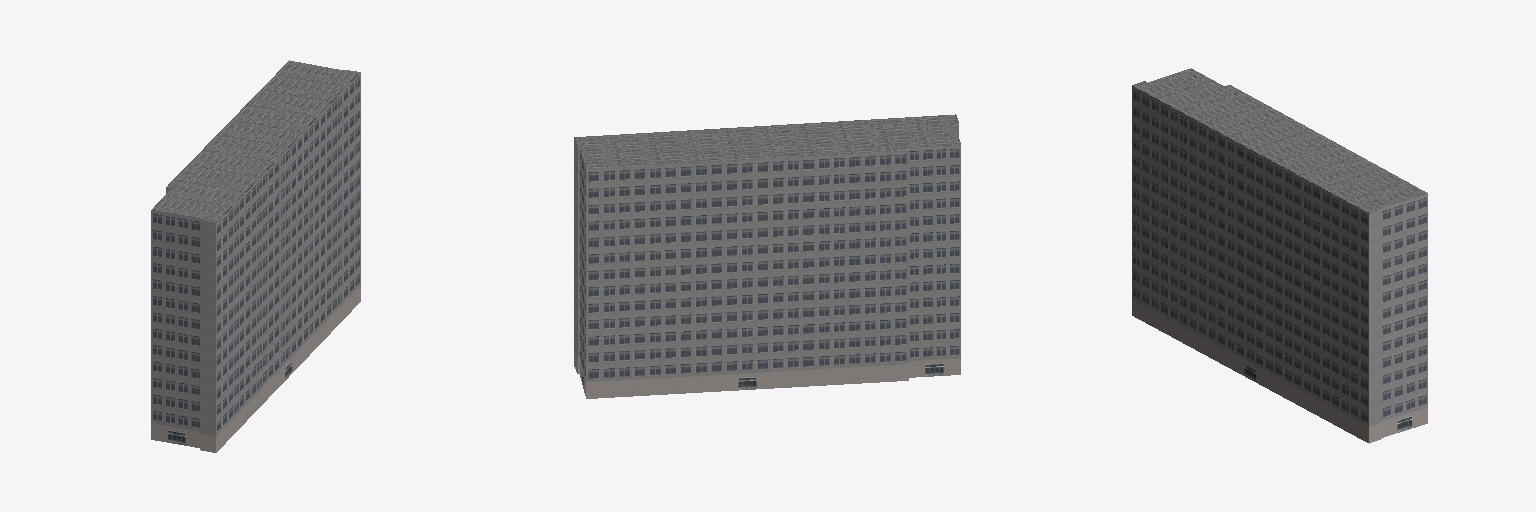
3 renders of one model, left to right at view 1: azimuth 30°, elevation 25°; view 2: azimuth 150°, elevation 25°; view 3: azimuth 270°, elevation 25°, orthographic.
Parts seen in each view (by area): view 1: BuildingMaster_[number redacted]_0, BuildingMaster_[number redacted]_1; view 2: BuildingMaster_[number redacted]_0, BuildingMaster_[number redacted]_1; view 3: BuildingMaster_[number redacted]_0, BuildingMaster_[number redacted]_1.
Part boxes in pixels (x1,y1,x2,y2): BuildingMaster_[number redacted]_0: (151,72,360,452); BuildingMaster_[number redacted]_1: (152,60,359,222); BuildingMaster_[number redacted]_0: (574,122,960,398); BuildingMaster_[number redacted]_1: (575,114,960,168); BuildingMaster_[number redacted]_0: (1132,86,1427,443); BuildingMaster_[number redacted]_1: (1132,68,1427,213).
Bounding box in the file's own units: 66.44 × 49 × 57.33.
2 materials, 2 textured.